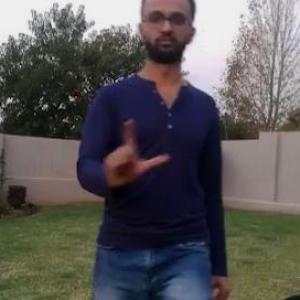land_hand: (94, 115, 173, 192)
